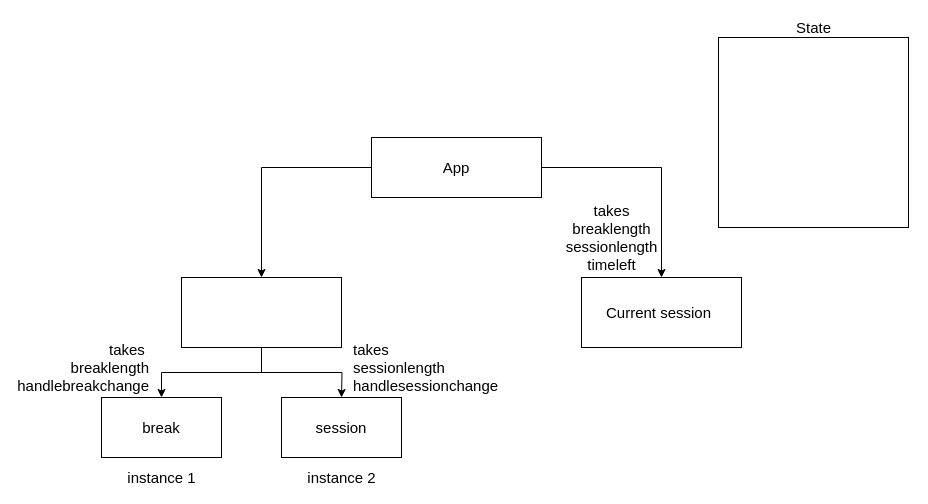
The diagram is 928 pixels wide and 504 high, and some of its shapes have lost their labels. The centre of each missing label's shape, as x and y in pixels:
breaklength = 5 sessionlength = 25 timeLeft = sessionlength: pixel 813 132
Counter: pixel 261 312
